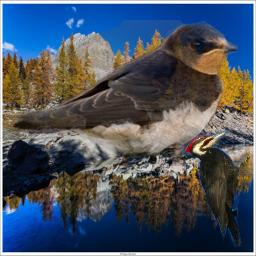Swallow: (10, 20, 238, 166)
Woodpecker: (181, 130, 250, 247)
